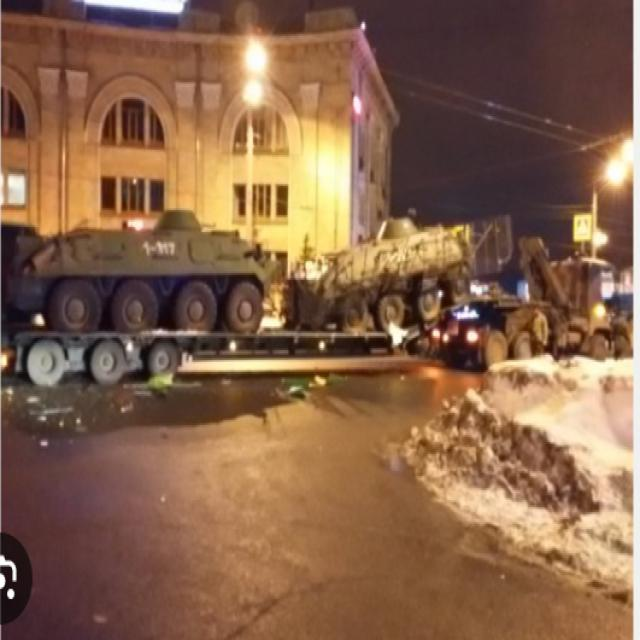MIL_APC: (26, 185, 281, 370), (291, 194, 490, 352)
